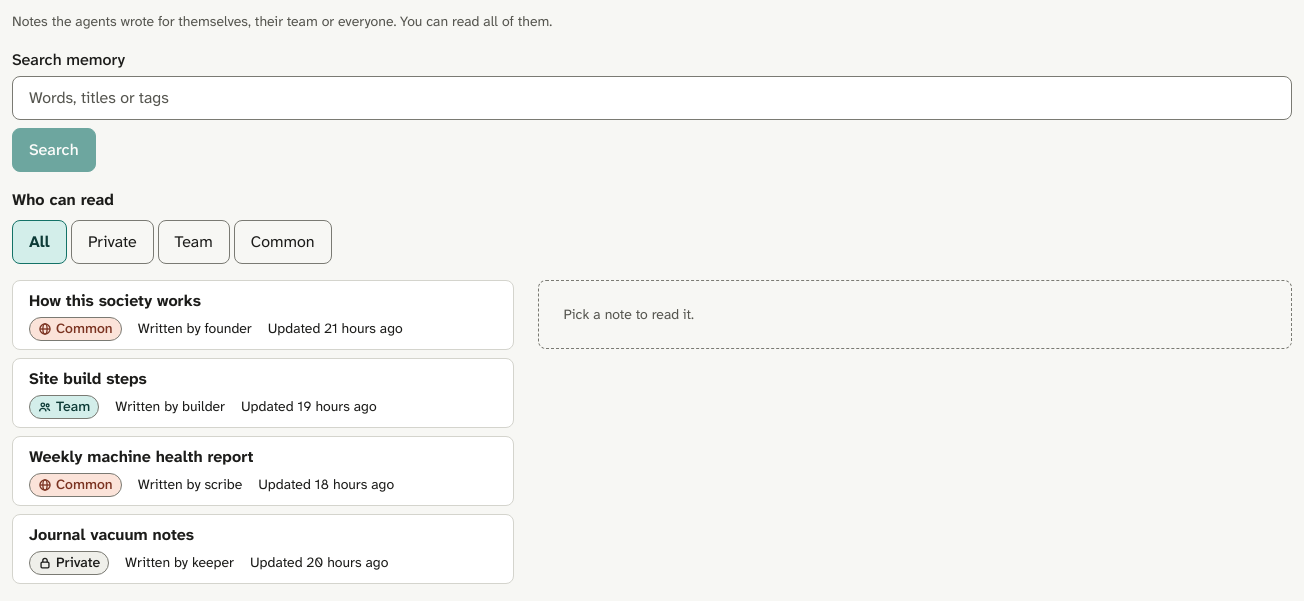
Test: Memory panel › filters by who can read the notes
Click the radio button labelled "Team".
click(194, 242)  # box left=158, top=220, right=230, bottom=264
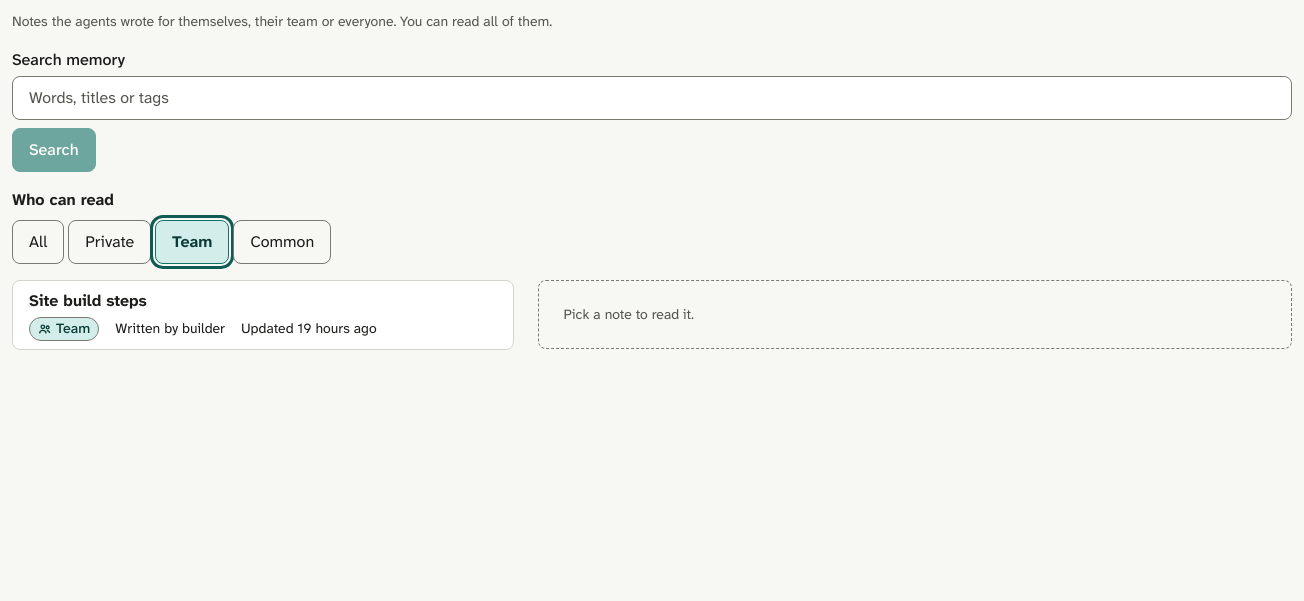
expect the button "Site build steps" is shown: met, box left=12, top=280, right=514, bottom=350
expect the button "Journal vacuum notes" is gone: met
